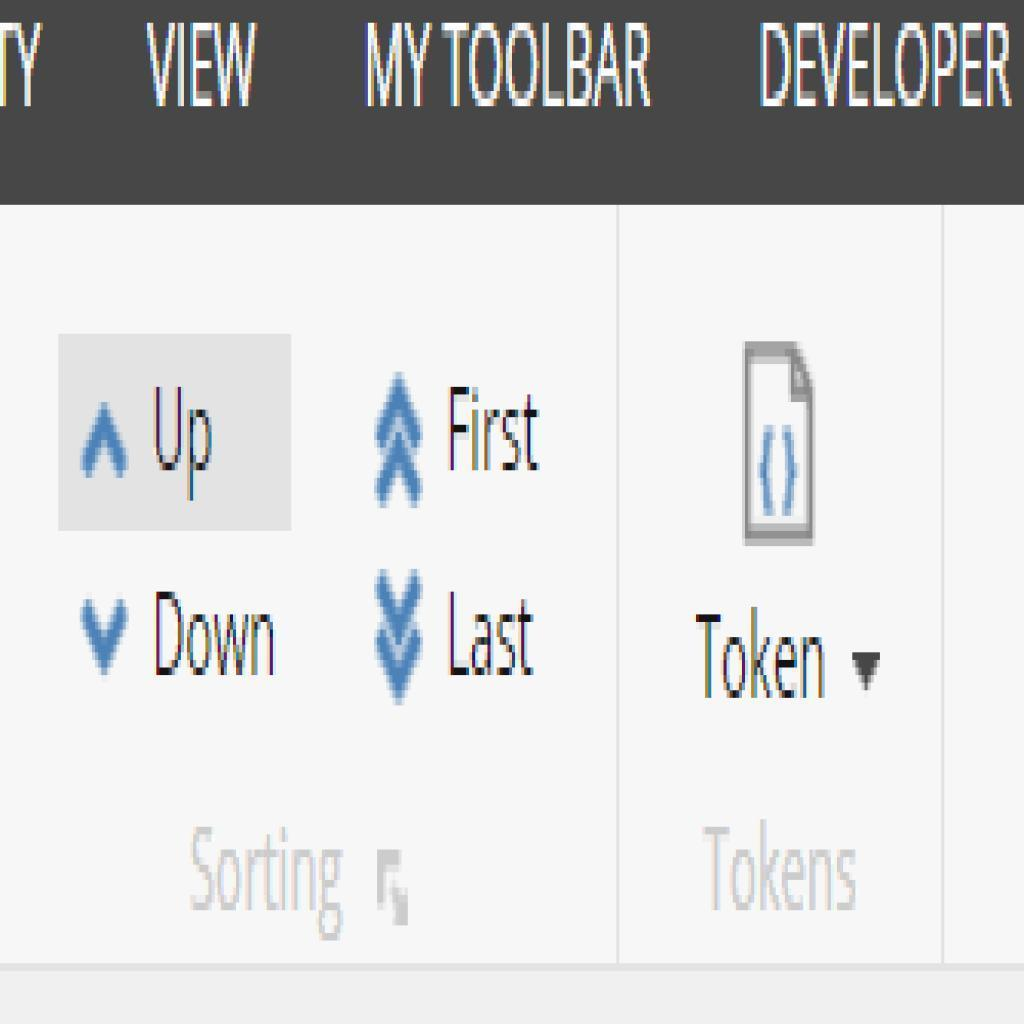dropdown: (53, 335, 293, 533), (67, 585, 289, 695)
icon: (364, 570, 436, 710), (365, 372, 433, 514), (846, 637, 893, 704)
label: (691, 607, 835, 708), (441, 378, 549, 486), (444, 588, 547, 689)
